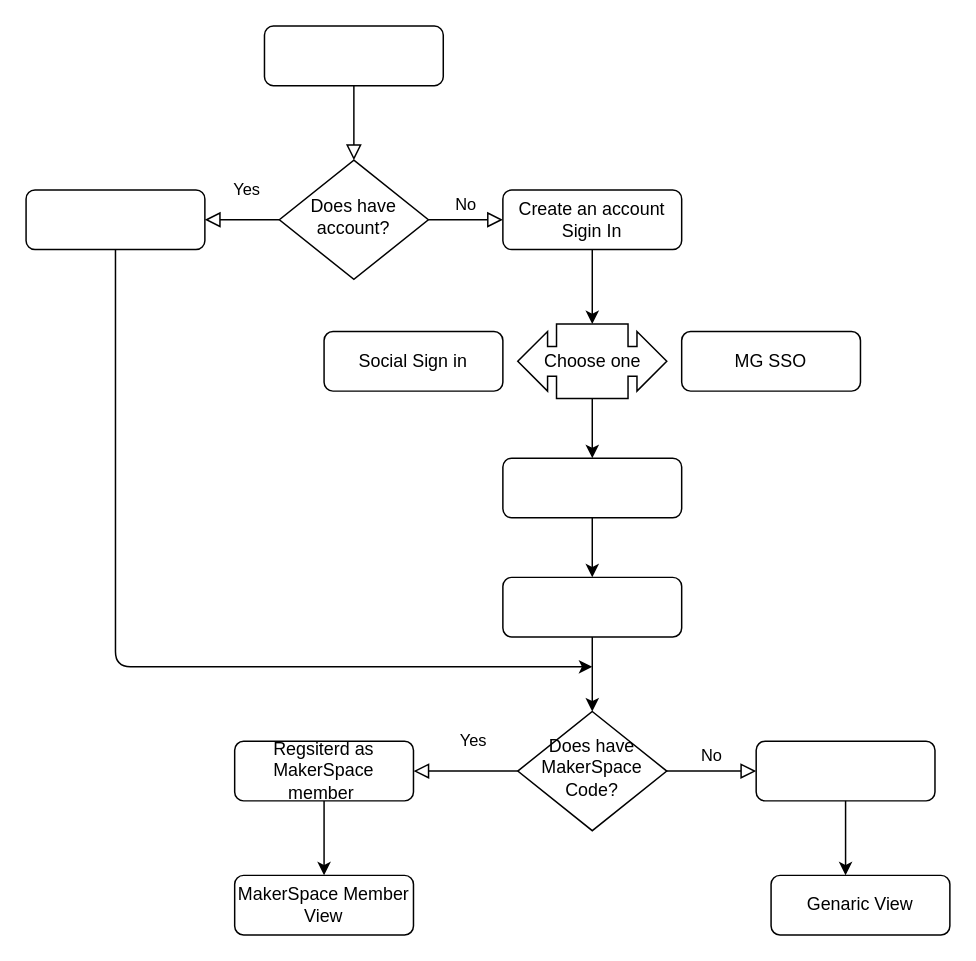
Image size: 976x961. Some labels were removed from this diagram. The shapes that lost their labels are listed below. From the top down, each one's centre as x and y in pixels, then its label:
At (353,55): "Visit MG".
At (115,219): "Login".
At (591,487): "Mail confirmation".
At (591,606): "Profile conplete".
At (845,770): "Registered as Generic Maker".
